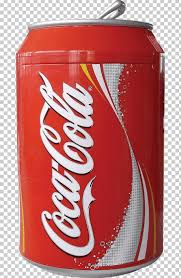can: (13, 3, 167, 276)
